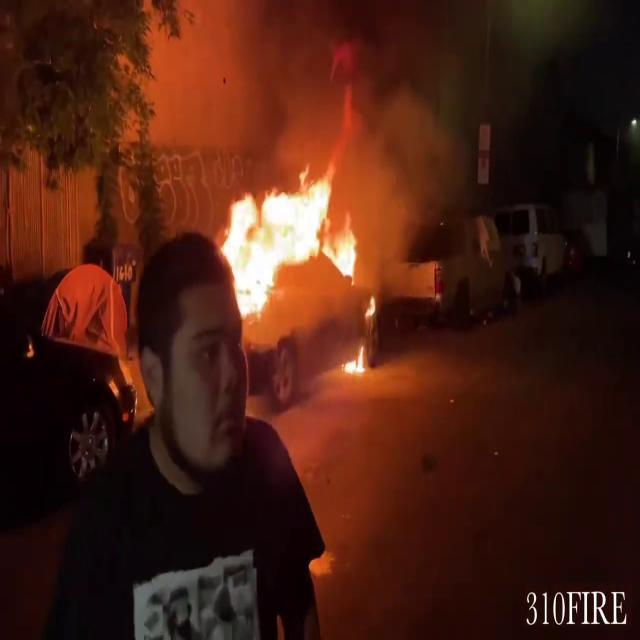Fire: (216, 162, 380, 346), (338, 339, 373, 381)
Smoke: (241, 0, 472, 216)
